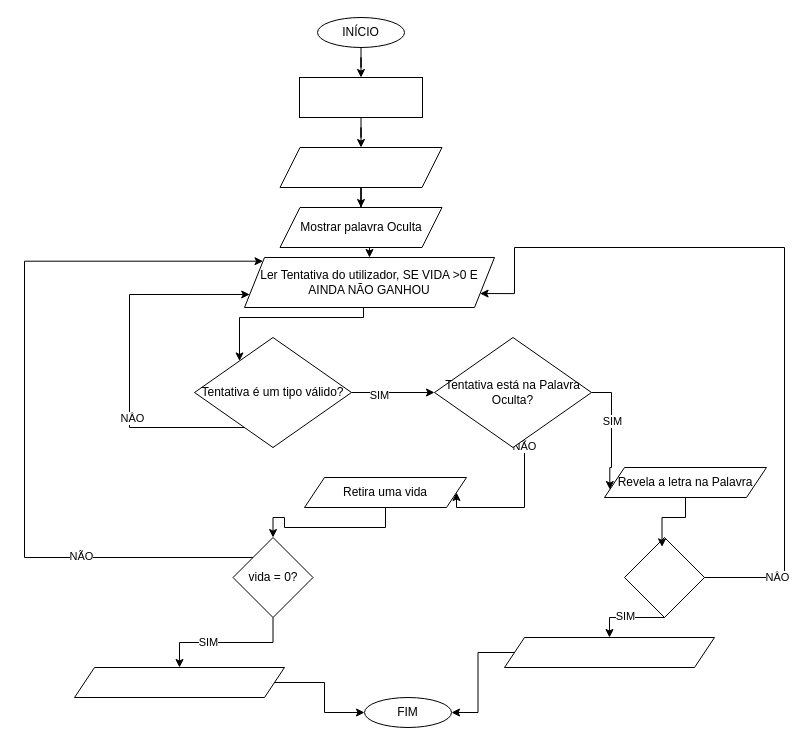
Some shapes in this 810 by 745 pixel diagram are drawn without their labels. Each missing label, with the centre of its shape:
Definir variáveis: [360,97]
Mostrar mensagem de derrota: [179,682]
Mostrar mensagem de vitória: [609,652]
Mostrar mensagem inicial: [360,167]
Palavra descoberta?: [664,577]
